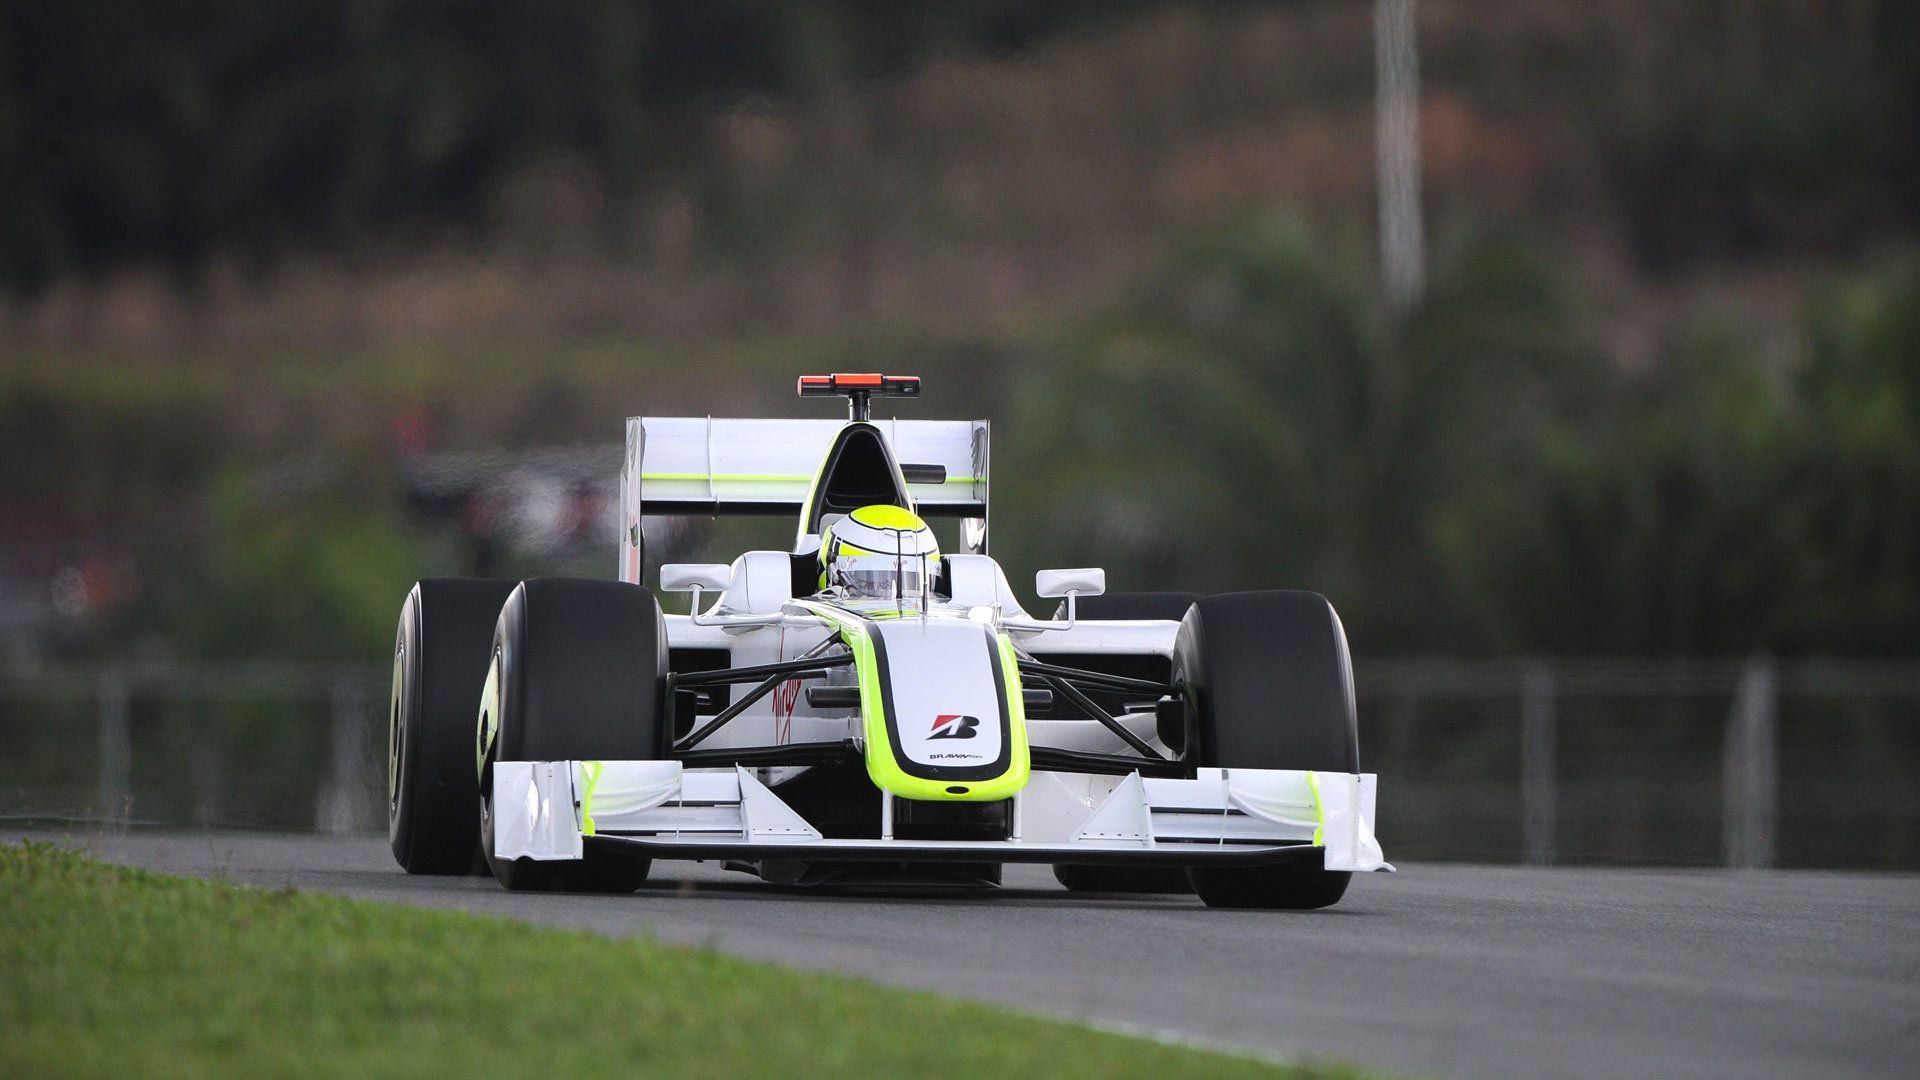f1_car: (363, 365, 1419, 930)
helmet: (796, 502, 961, 628)
